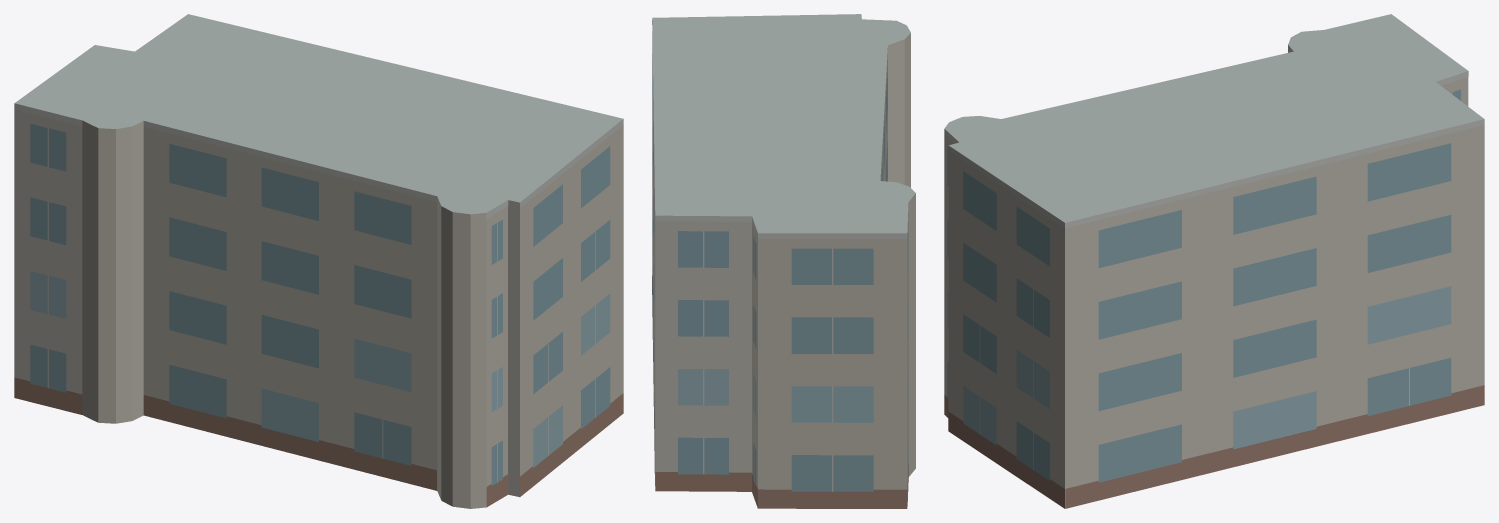
Rendered from survey-upis-32839345.glb.
The picture shows the model from 3 angles, left to right: view 1: azimuth 30°, elevation 25°; view 2: azimuth 150°, elevation 25°; view 3: azimuth 270°, elevation 25°; orthographic projection. The views are drawn at different scales.
Parts seen in each view (by area): view 1: survey-upis-32839345.tmp; view 2: survey-upis-32839345.tmp; view 3: survey-upis-32839345.tmp.
Boxes of the visible parts, x1=… form: survey-upis-32839345.tmp: x1=14, y1=14, x2=623, y2=508; survey-upis-32839345.tmp: x1=652, y1=14, x2=915, y2=508; survey-upis-32839345.tmp: x1=944, y1=14, x2=1484, y2=508.
Size of the model in its own units: 19.12 by 12.2 by 20.89.
